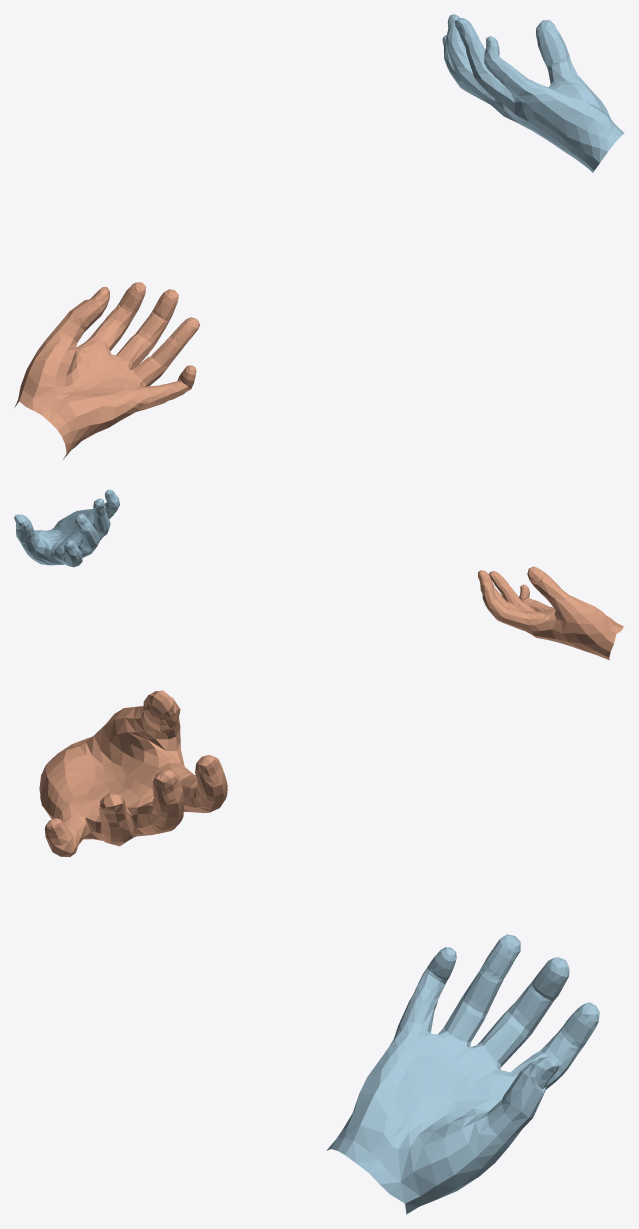
File: frame_029.glb
3 renders of one model, top to bottom at view 1: azimuth 30°, elevation 25°; view 2: azimuth 150°, elevation 25°; view 3: azimuth 270°, elevation 25°, orthographic. The views are drawn at different scales.
Parts seen in each view (by area): view 1: world; view 2: world; view 3: world.
Part boxes in pixels (bbox=[...]): world: bbox=[14, 14, 624, 459]; world: bbox=[14, 489, 623, 660]; world: bbox=[39, 690, 599, 1214].
Bounding box in the file's own units: 0.5953 × 0.1585 × 0.2852.
